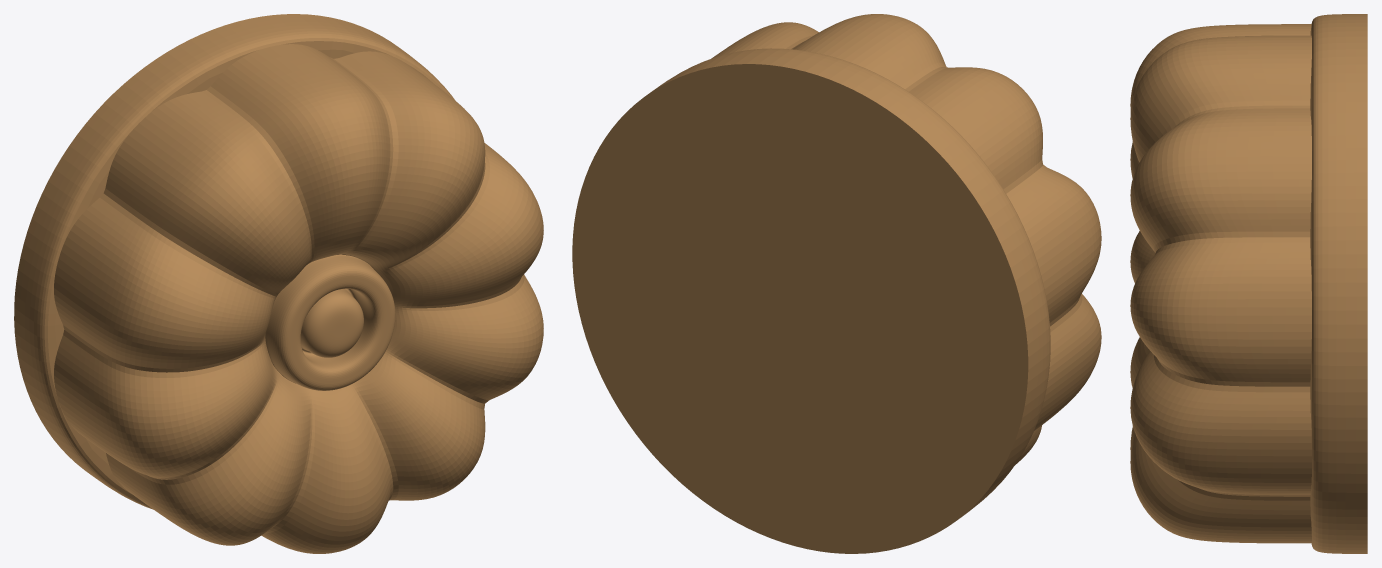
File: gukhwa.all.glb
3 views of the same model, side by side, from view 1: azimuth 30°, elevation 25°; view 2: azimuth 150°, elevation 25°; view 3: azimuth 270°, elevation 25° (orthographic). The views are drawn at different scales.
Visible parts, largest first — view 1: Circle.080; view 2: Circle.080; view 3: Circle.080.
Boxes of the visible parts, x1=… form: Circle.080: x1=14, y1=14, x2=543, y2=553; Circle.080: x1=572, y1=14, x2=1101, y2=553; Circle.080: x1=1130, y1=14, x2=1367, y2=553.
Bounding box in the file's own units: 13.71 × 13.71 × 6.02.
